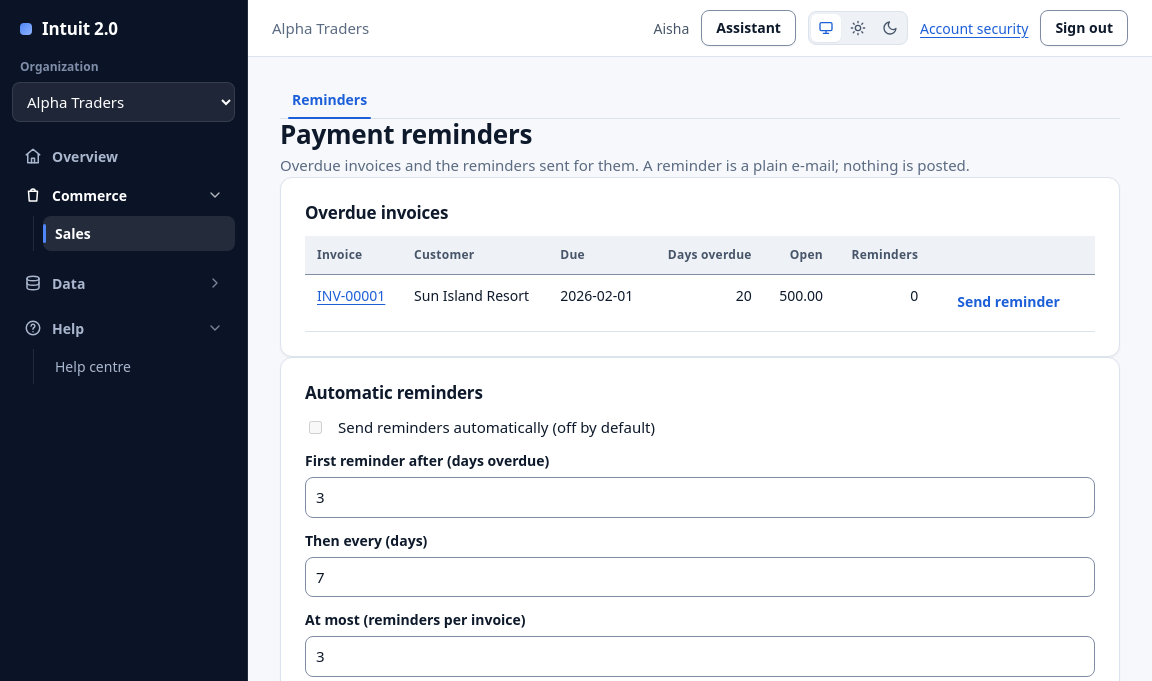
Test: reminders page › sends a reminder for an overdue invoice and confirms where it went
Click the button "Send reminder": (1009, 303) [942,285,1075,321]
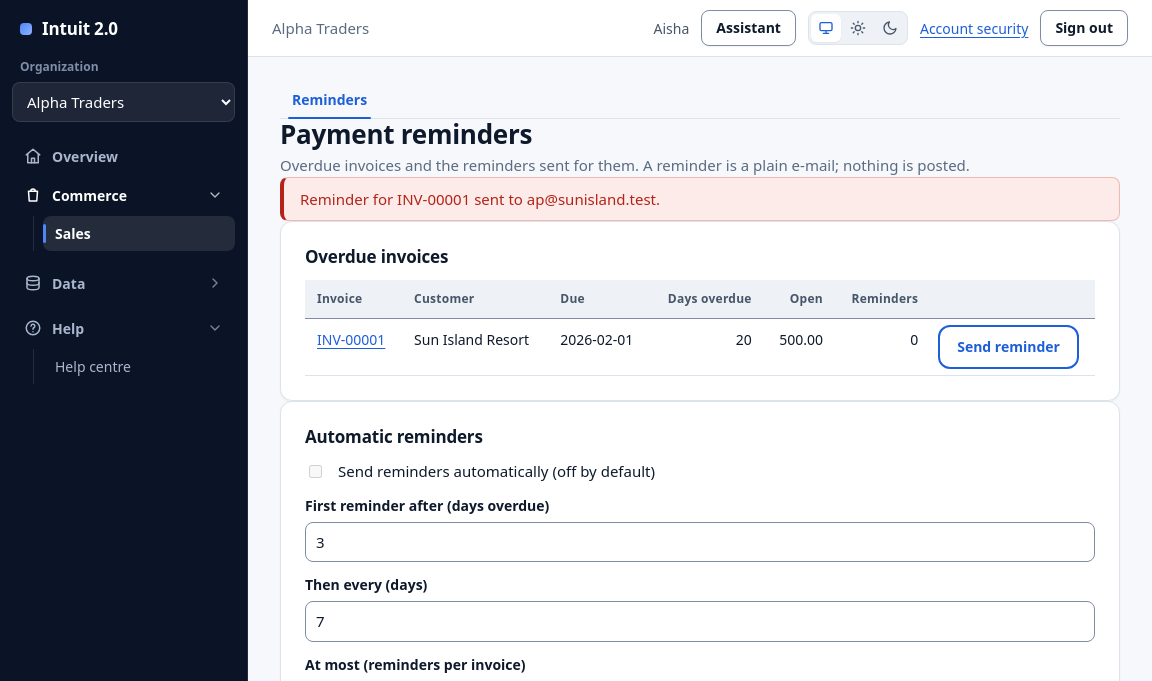
Now the text "Reminder for INV-00001 sent to ap@sunisland.test." is shown, box [280,177,1120,221]
